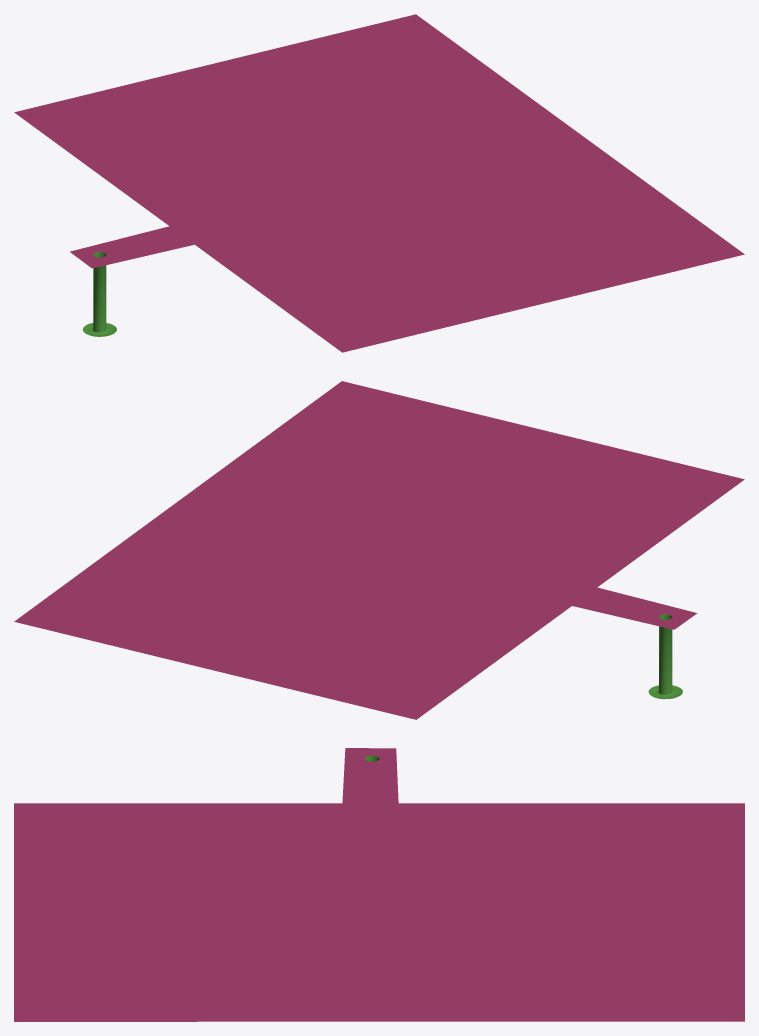
File: Advertising-Hell-Terrain-Xen.fbx
3 views of the same model, one above another, from view 1: azimuth 30°, elevation 25°; view 2: azimuth 150°, elevation 25°; view 3: azimuth 270°, elevation 25° (orthographic). The views are drawn at different scales.
Visible parts, largest first — view 1: Advertising-Hell-Terrain-Xen; view 2: Advertising-Hell-Terrain-Xen; view 3: Advertising-Hell-Terrain-Xen.
Boxes of the visible parts, box(x1,y1,x2,y2) form: Advertising-Hell-Terrain-Xen: box(14, 14, 744, 352); Advertising-Hell-Terrain-Xen: box(14, 381, 744, 719); Advertising-Hell-Terrain-Xen: box(14, 748, 744, 1021).
Bounding box in the file's own units: 20970 × 3000 × 23657.
